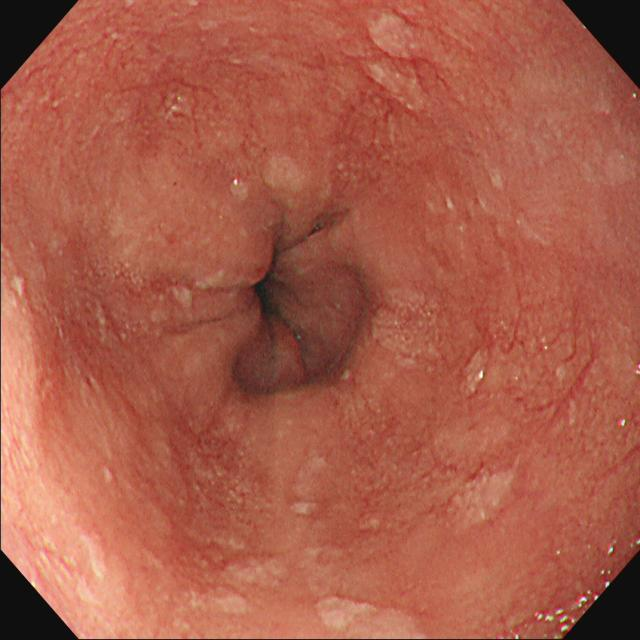A: (468, 280, 607, 427), (336, 414, 463, 536), (37, 260, 159, 375), (173, 429, 270, 561), (343, 8, 445, 123), (372, 285, 449, 380)
I: (176, 173, 376, 408)
